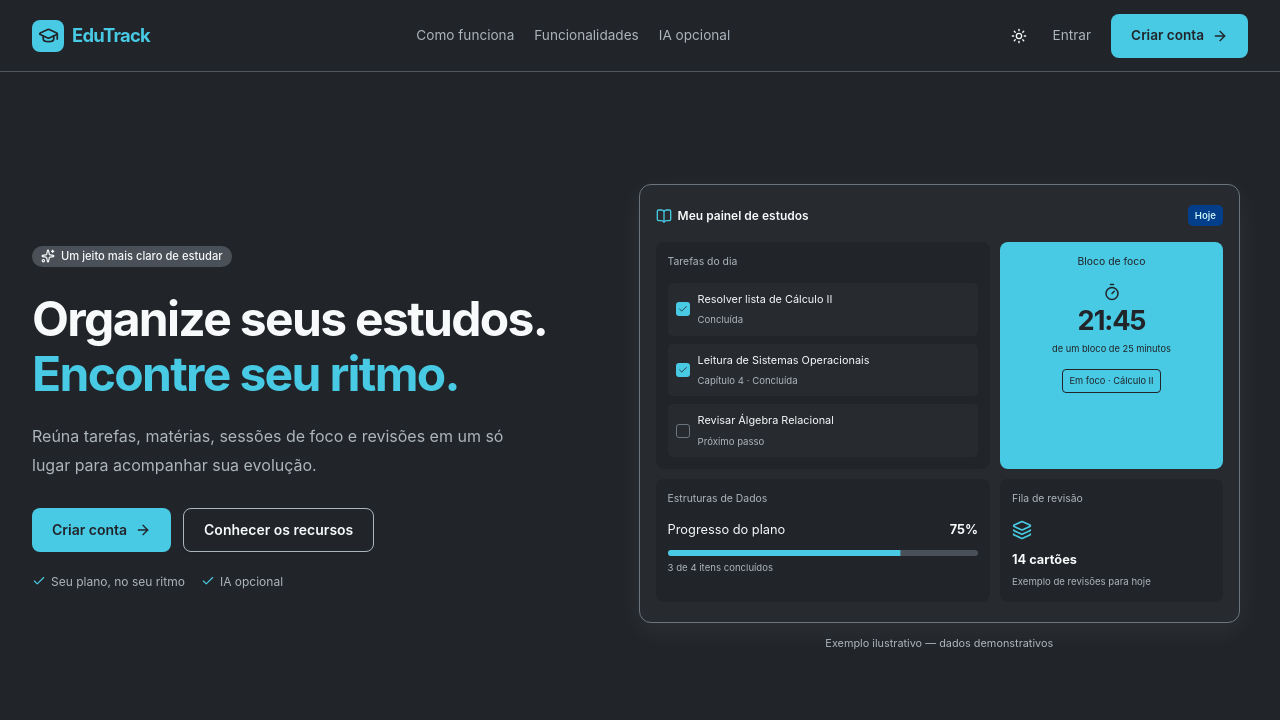
keeps a manual theme and scrolls to the top when navigating from the landing to access and back
Click the 1st link "Criar conta".
click(1180, 36)  # box [1111, 14, 1248, 58]
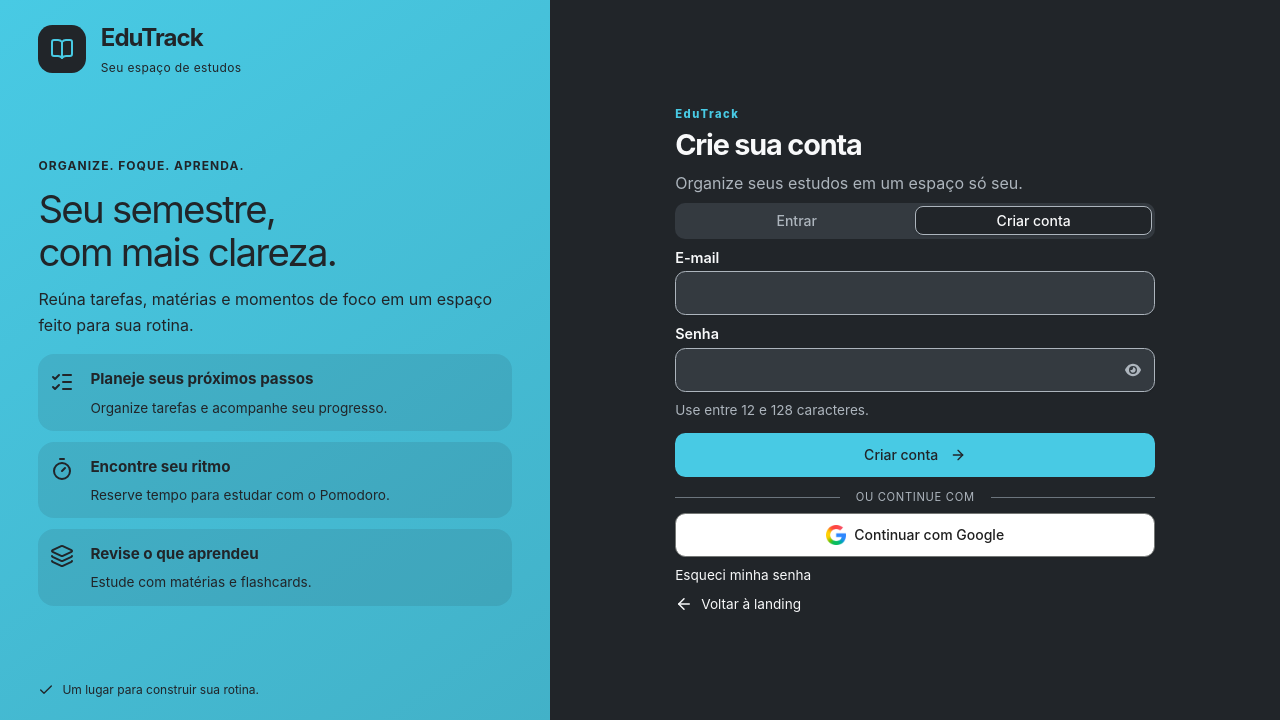
Now the heading "Crie sua conta" is shown, box [675, 127, 862, 162]
Click the link "Voltar à landing".
click(738, 604)  # box [675, 594, 801, 614]
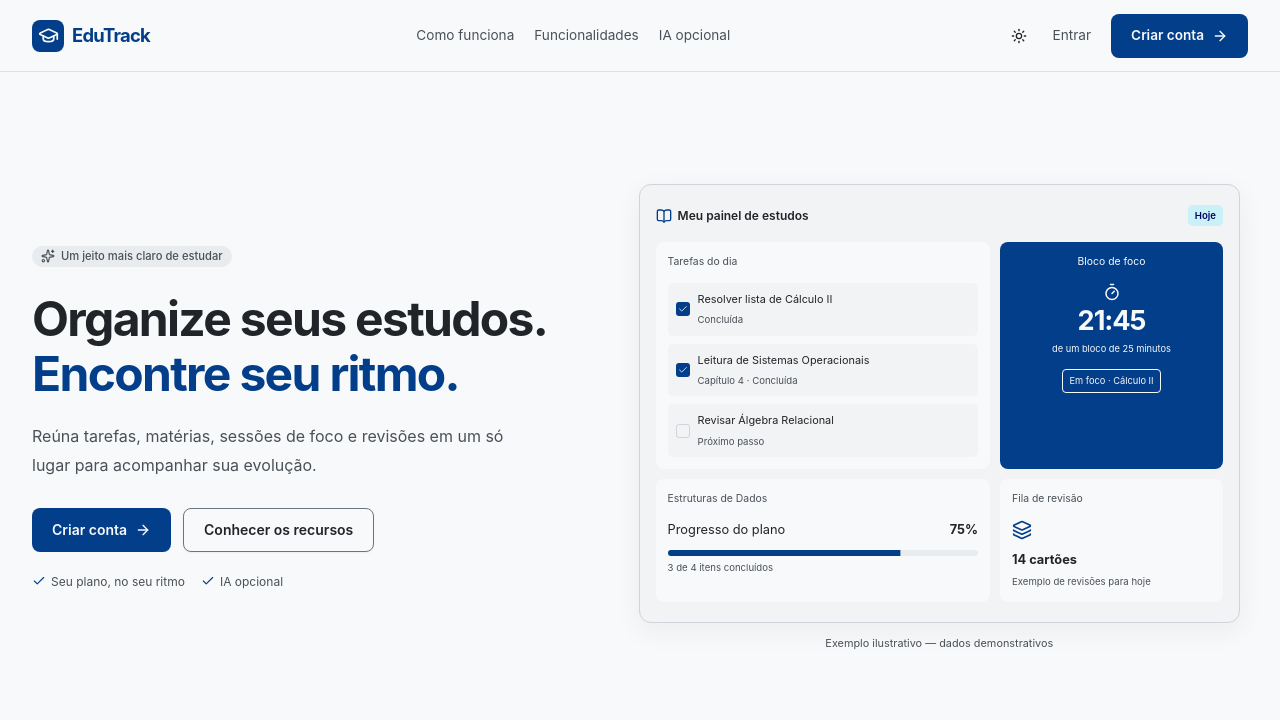
Now the heading shows "Organize seus estudos.", box [32, 289, 547, 348]
